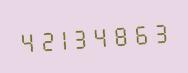eight: (112, 18, 130, 50)
four: (17, 25, 35, 57), (93, 20, 111, 51)
one: (55, 22, 73, 54)
six: (131, 17, 149, 49)
three: (74, 21, 92, 53), (150, 16, 168, 47)
two: (36, 24, 54, 55)
